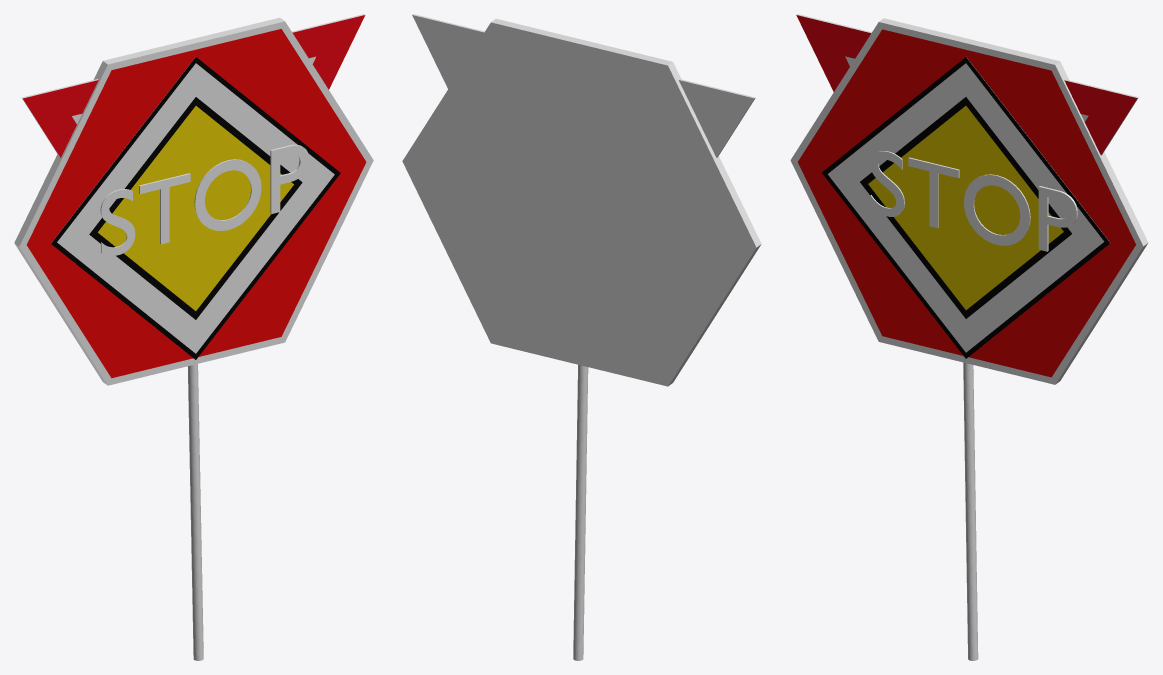
File: Signs.fbx
The picture shows the model from 3 angles, left to right: view 1: azimuth 30°, elevation 25°; view 2: azimuth 150°, elevation 25°; view 3: azimuth 330°, elevation 25°; orthographic projection.
Visible parts, largest first — view 1: Stop, Circle.002, Circle.003, Stop_text; view 2: Stop, Circle.003; view 3: Stop, Circle.002, Circle.003, Stop_text.
Boxes of the visible parts, box(x1,y1,x2,y2) form: Stop: box(14, 17, 373, 621); Circle.002: box(51, 57, 340, 660); Circle.003: box(22, 14, 365, 660); Stop_text: box(100, 144, 309, 255); Stop: box(402, 18, 761, 659); Circle.003: box(412, 14, 755, 660); Stop: box(790, 18, 1148, 660); Circle.002: box(822, 57, 1110, 660); Circle.003: box(796, 14, 1138, 660); Stop_text: box(870, 151, 1077, 251).
Size of the model in its own units: 4 by 0.1269 by 6.67.
